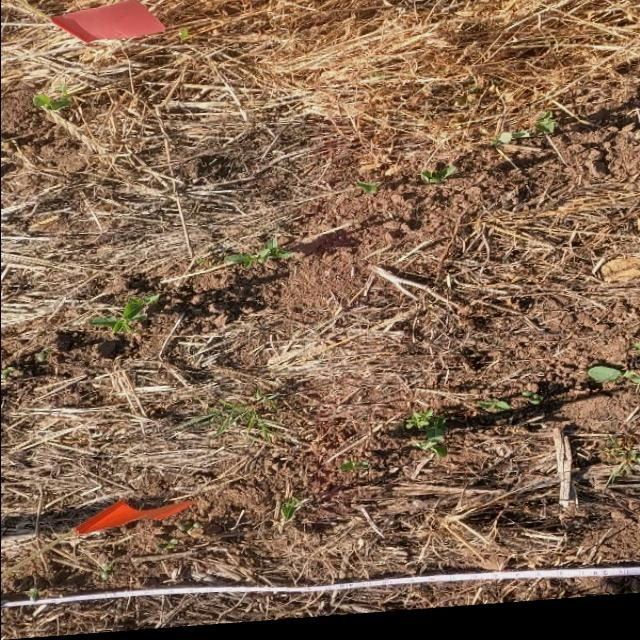grassy_weed: (182, 392, 282, 447), (598, 440, 640, 500)
soy_plant: (89, 298, 158, 335), (405, 416, 446, 464), (224, 243, 292, 271), (32, 85, 71, 112), (279, 502, 305, 526), (587, 375, 621, 391), (534, 119, 554, 142), (477, 406, 509, 420), (338, 466, 369, 475), (356, 187, 376, 199)
